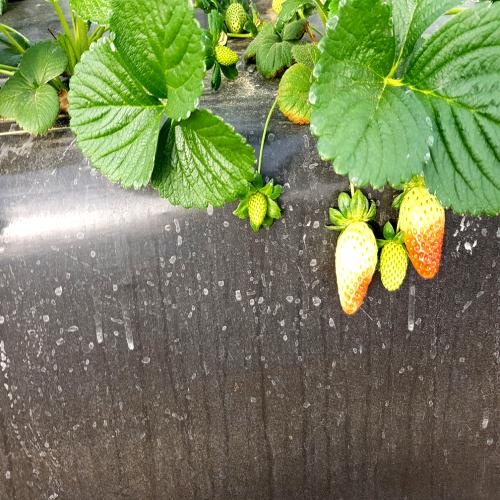partially-ripe: (399, 181, 452, 286), (333, 212, 380, 319)
